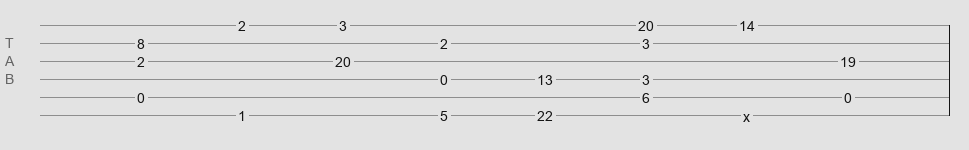0: (137, 90, 145, 100), (440, 72, 448, 82), (844, 90, 852, 100)
1: (238, 108, 246, 118)
13: (537, 72, 553, 82)
14: (739, 18, 755, 28)
19: (840, 54, 856, 64)
2: (137, 54, 145, 64), (238, 18, 246, 28), (440, 36, 448, 46)
20: (335, 54, 351, 64), (638, 18, 654, 28)
22: (537, 108, 553, 118)
3: (339, 18, 347, 28), (642, 36, 650, 46), (642, 72, 650, 82)
5: (440, 108, 448, 118)
6: (642, 90, 650, 100)
8: (137, 36, 145, 46)
x: (743, 109, 750, 117)
